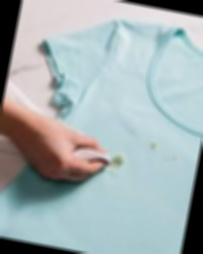oil: (110, 150, 129, 173), (147, 140, 161, 155), (163, 154, 180, 166)
